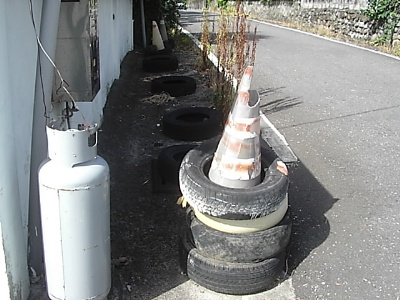tire: (178, 137, 291, 219), (173, 234, 289, 292), (186, 210, 293, 263), (161, 105, 223, 139), (149, 74, 199, 99), (143, 53, 181, 75)
